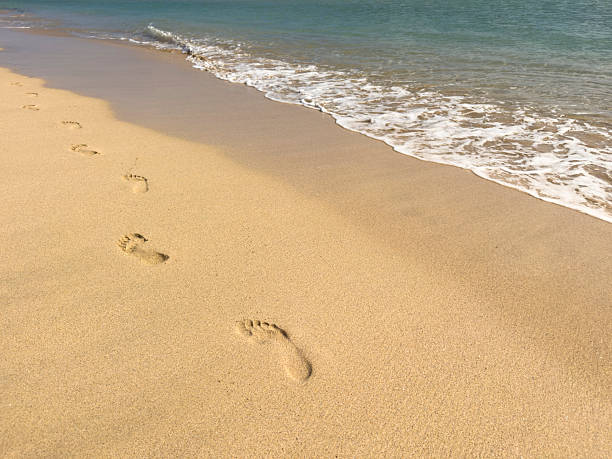human_footprint: (235, 319, 311, 381), (117, 233, 168, 263), (122, 173, 147, 192), (71, 144, 99, 155), (61, 121, 81, 128), (21, 104, 39, 110), (25, 92, 38, 96)
